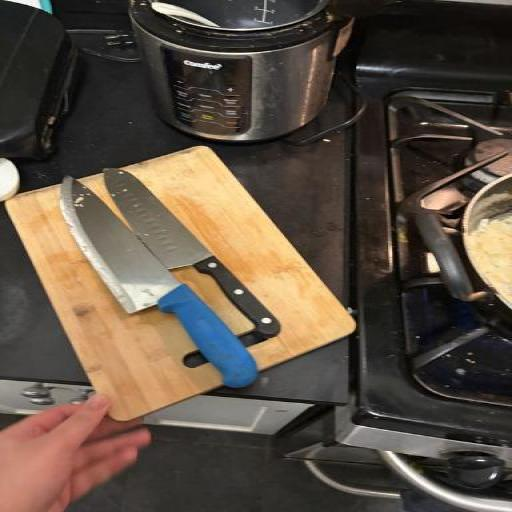knife: (36, 174, 268, 400), (88, 156, 299, 344)
